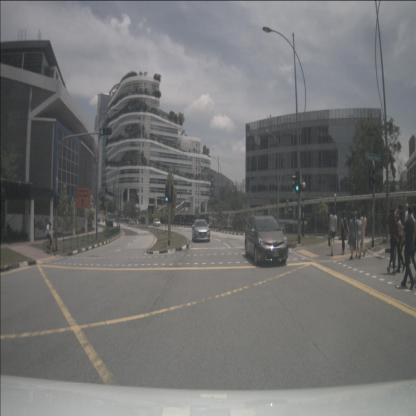human-pedestrian-adult: (401, 206, 415, 291), (385, 209, 399, 276), (392, 205, 404, 267), (402, 204, 414, 264), (395, 212, 405, 273), (339, 210, 350, 255), (348, 212, 358, 260), (328, 207, 337, 257), (358, 210, 367, 257), (355, 211, 363, 260)
vehicle-bicycle: (43, 222, 58, 256)
vehicle-car: (244, 214, 288, 266), (192, 219, 210, 242), (105, 213, 114, 228), (152, 218, 160, 227)
